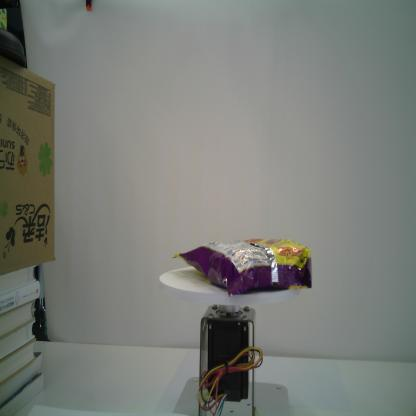Instant Noodles: (168, 230, 314, 301)
